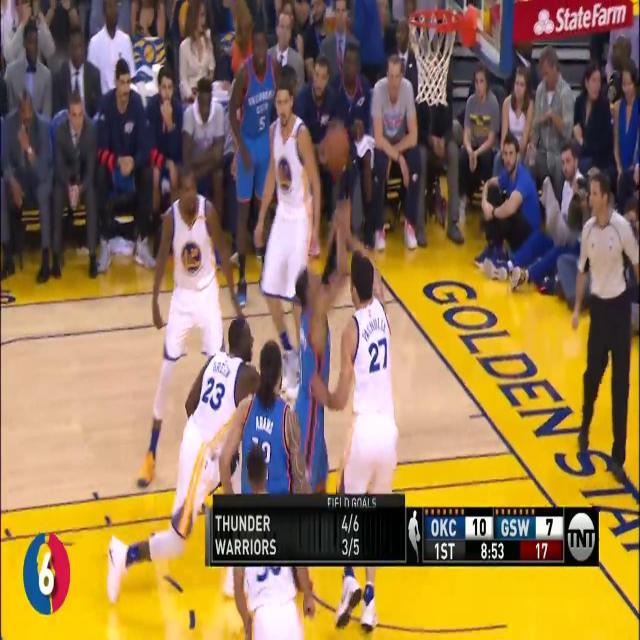basketball: (322, 118, 352, 176)
hoop: (408, 7, 456, 109)
